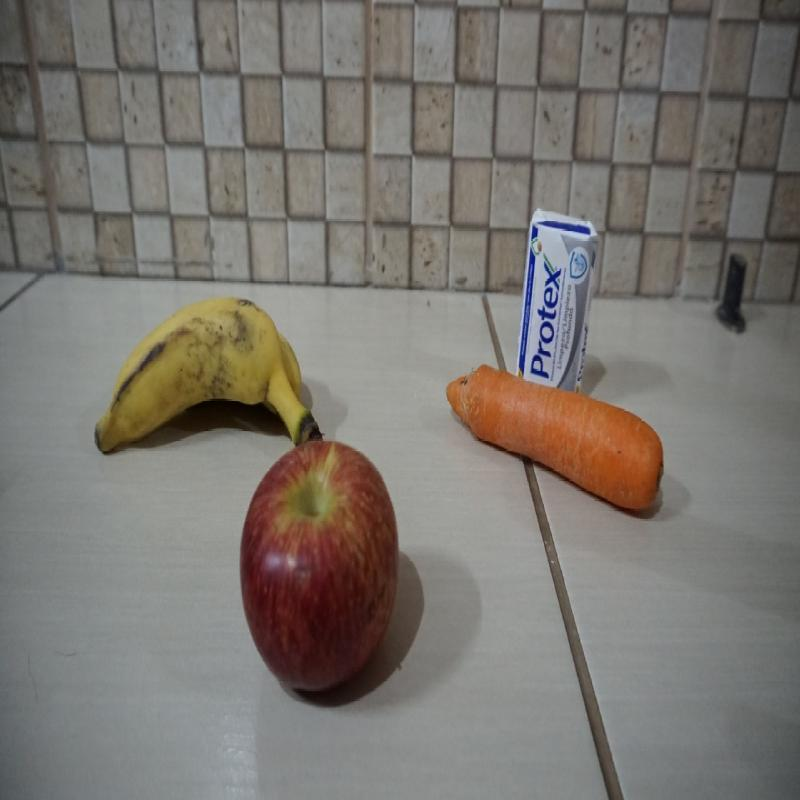Apple: (246, 439, 397, 692)
Banana: (87, 293, 322, 438)
Carrot: (444, 369, 672, 519)
Soap: (515, 204, 598, 360)
